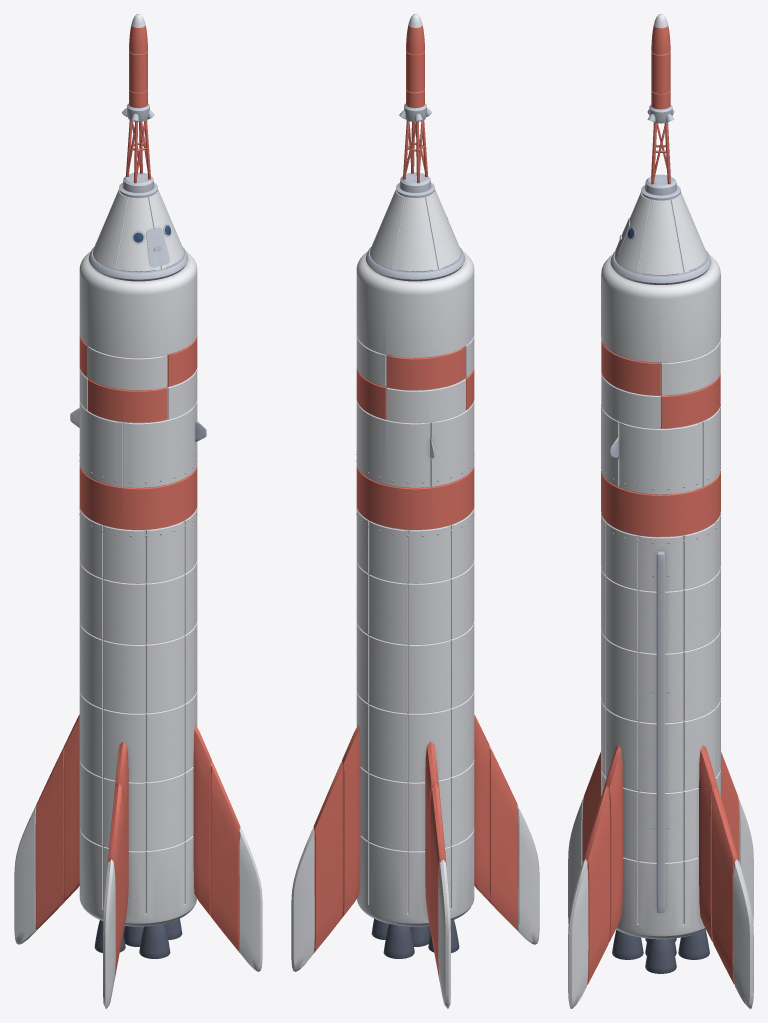
The model's file is rocket.glb.
3 renders of one model, left to right at view 1: azimuth 30°, elevation 25°; view 2: azimuth 150°, elevation 25°; view 3: azimuth 270°, elevation 25°, orthographic.
Visible parts, largest first — view 1: rocket_body; view 2: rocket_body; view 3: rocket_body.
Part boxes in pixels (box(x1,y1,x2,y2)): rocket_body: box(14, 14, 262, 1008); rocket_body: box(291, 14, 539, 1008); rocket_body: box(568, 14, 753, 1008).
Size of the model in its own units: 8.69 by 49.4 by 8.69.
2 materials, 1 textured.
